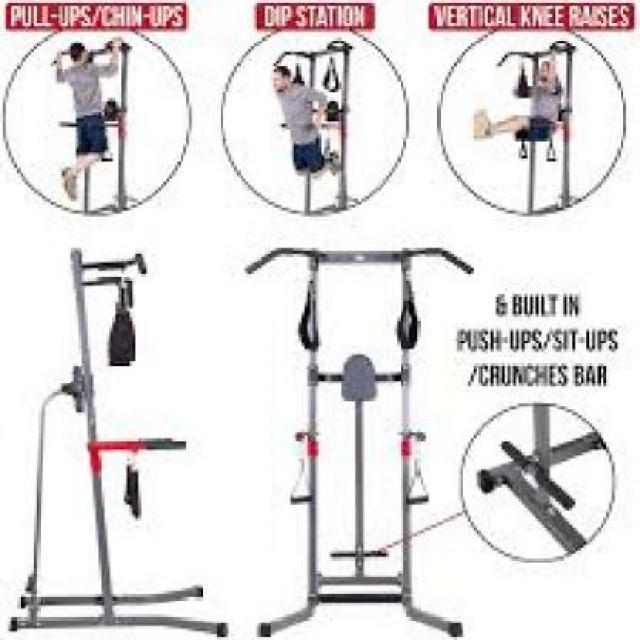chinning dipping: (246, 243, 474, 637), (12, 247, 238, 636)
